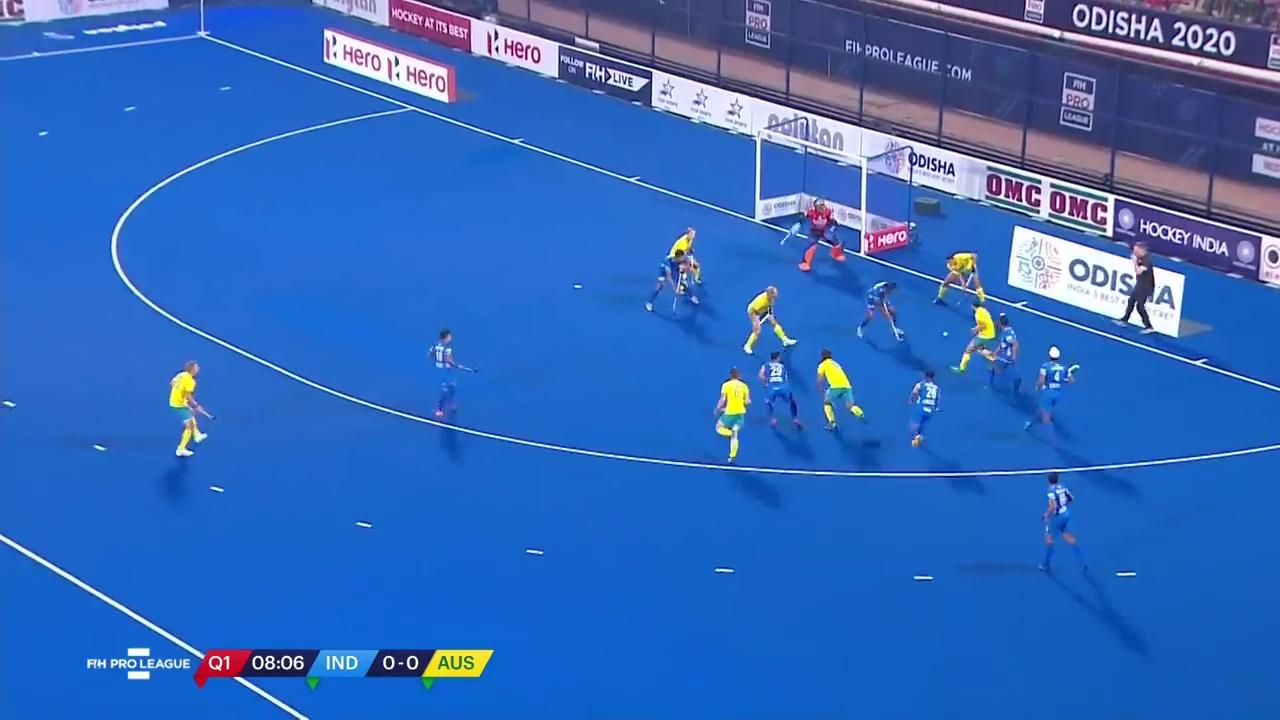ball: (941, 330, 949, 338)
